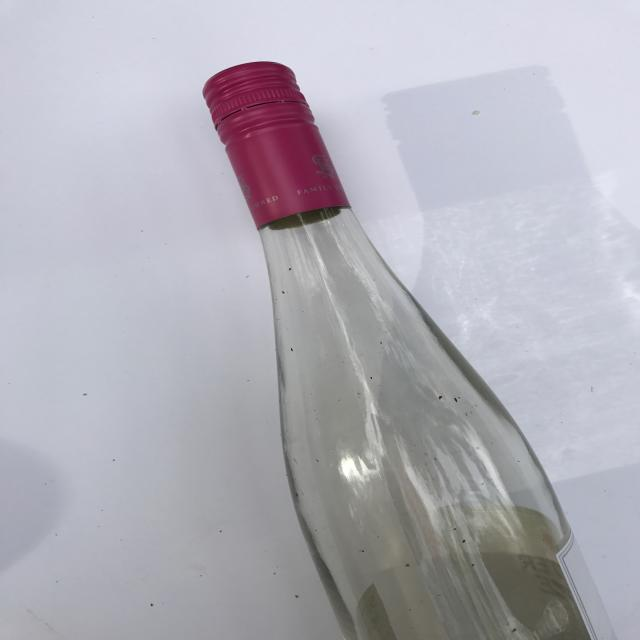glass: (201, 61, 618, 638)
